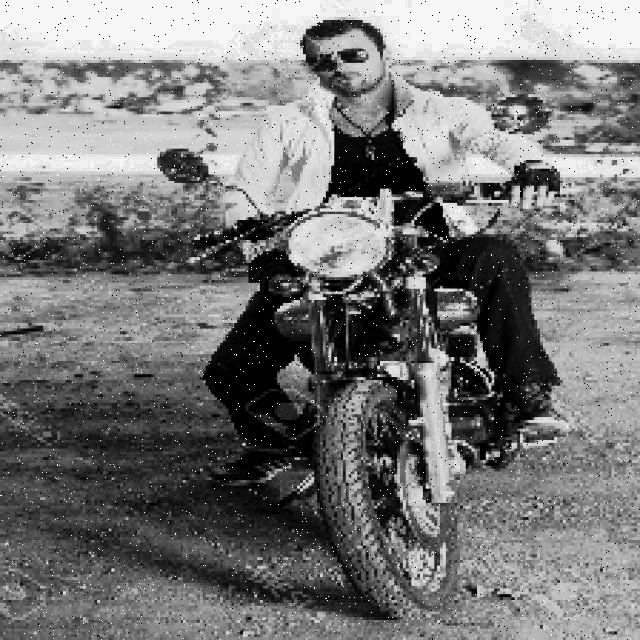Bike: (232, 198, 530, 623)
